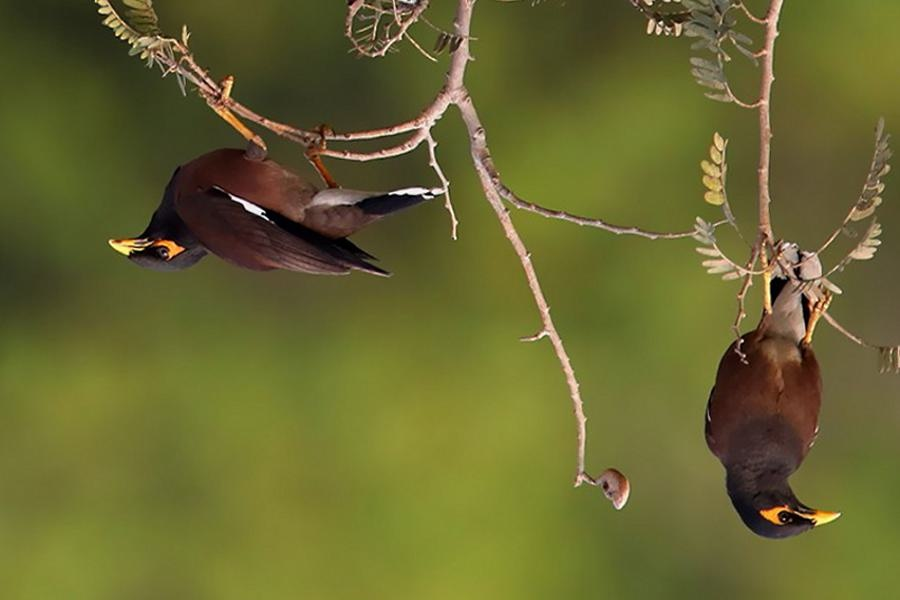myna: (95, 129, 488, 288), (695, 269, 851, 549)
